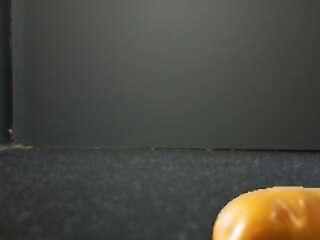Potato: (210, 185, 320, 240)
